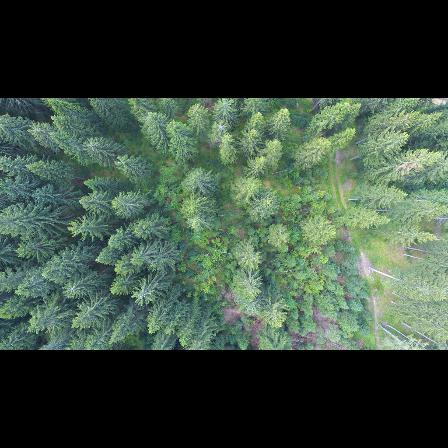Sick: (129, 287, 157, 307), (61, 282, 82, 300)
